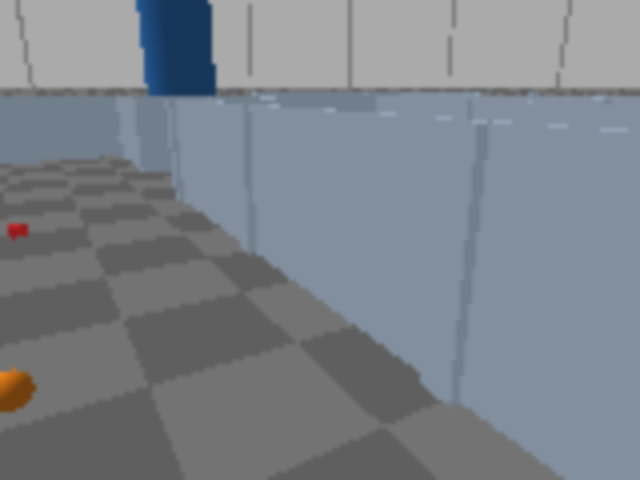puck: (0, 358, 45, 427), (7, 222, 29, 238)
